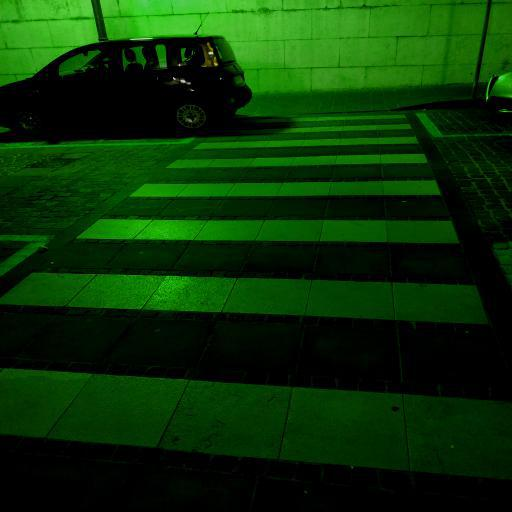crosswalk: (62, 174, 470, 256), (184, 120, 426, 152)
